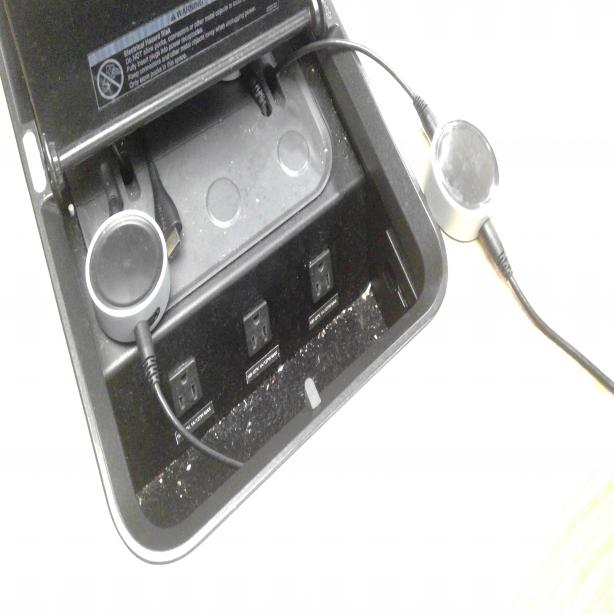typeb: (169, 366, 200, 413), (242, 304, 272, 352), (307, 245, 333, 295)
